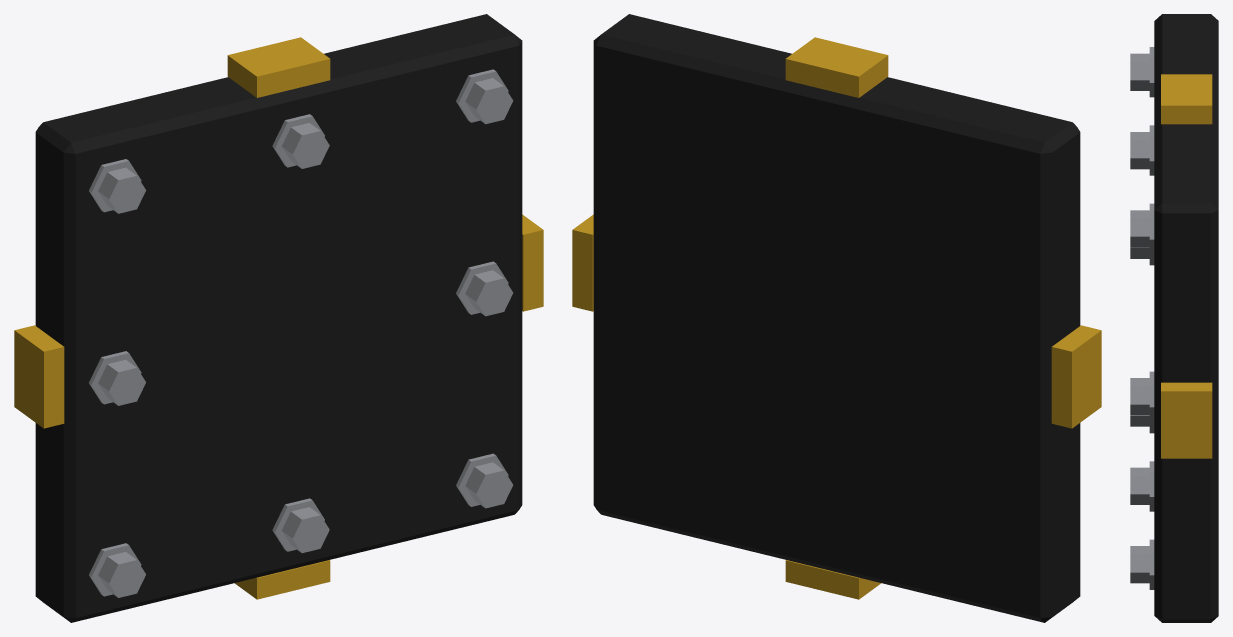
Rendered from trh_flange.obj.
3 views of the same model, side by side, from view 1: azimuth 30°, elevation 25°; view 2: azimuth 150°, elevation 25°; view 3: azimuth 270°, elevation 25° (orthographic). The views are drawn at different scales.
Visible parts, largest first — view 1: trh_flange; view 2: trh_flange; view 3: trh_flange.
Part boxes in pixels (bbox=[...]): trh_flange: bbox=[14, 14, 543, 622]; trh_flange: bbox=[572, 14, 1101, 622]; trh_flange: bbox=[1130, 14, 1218, 622].
Bounding box in the file's own units: 1.96 × 1.96 × 0.3445.
